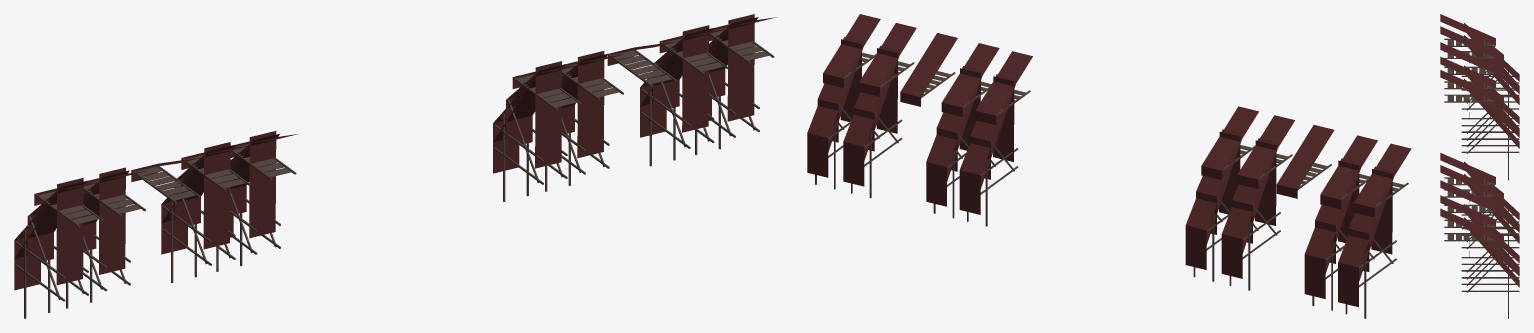
The model's file is Toiles.fbx.
The picture shows the model from 3 angles, left to right: view 1: azimuth 30°, elevation 25°; view 2: azimuth 150°, elevation 25°; view 3: azimuth 270°, elevation 25°; orthographic projection. The views are drawn at different scales.
Parts seen in each view (by area): view 1: pCube89 (×4), pCube92 (×4), pCube94 (×3), pCube87 (×3), pCube91 (×2), pCube90 (×2), pCube88, pCube93; view 2: pCube92 (×5), pCube87 (×5), pCube94 (×5), pCube91 (×5), pCube89 (×5), pCube93 (×5), pCube90 (×5), pCube88 (×5), pCube110, pCube111; view 3: pCube91 (×4), pCube90 (×4), pCube88 (×4), pCube93 (×4), pCube101 (×10), pCube89 (×4), pCube92 (×4), pCube94 (×3), pCube87 (×3), pCube110, pCube111, pCube100 (×5).
Part boxes in pixels (x1,y1,x2,y2): pCube89 (×4): (640,25,712,137); pCube92 (×4): (161,142,234,254); pCube94 (×3): (14,178,87,290); pCube87 (×3): (493,61,565,173); pCube91 (×2): (230,131,279,238); pCube90 (×2): (708,14,758,121); pCube88: (577,51,604,158); pCube93: (99,167,125,274); pCube92 (×5): (1221,115,1294,278); pCube87 (×5): (959,51,1032,214); pCube94 (×5): (1338,143,1411,307); pCube91 (×5): (1185,106,1258,269); pCube89 (×5): (843,23,916,186); pCube93 (×5): (1304,135,1377,298); pCube90 (×5): (807,14,880,177); pCube88 (×5): (926,43,999,206); pCube110: (1276,125,1334,198); pCube111: (900,33,957,106); pCube91 (×4): (1440,70,1519,148); pCube90 (×4): (1440,208,1519,287); pCube88 (×4): (1440,165,1519,243); pCube93 (×4): (1440,26,1519,104); pCube101 (×10): (1444,101,1519,292); pCube89 (×4): (1440,195,1519,268); pCube92 (×4): (1440,56,1519,129); pCube94 (×3): (1440,14,1519,81); pCube87 (×3): (1440,153,1519,220); pCube110: (1440,42,1495,73); pCube111: (1440,180,1495,211); pCube100 (×5): (1461,120,1516,284).
Bounding box in the file's own units: 29.04 × 6.9 × 4.8.
